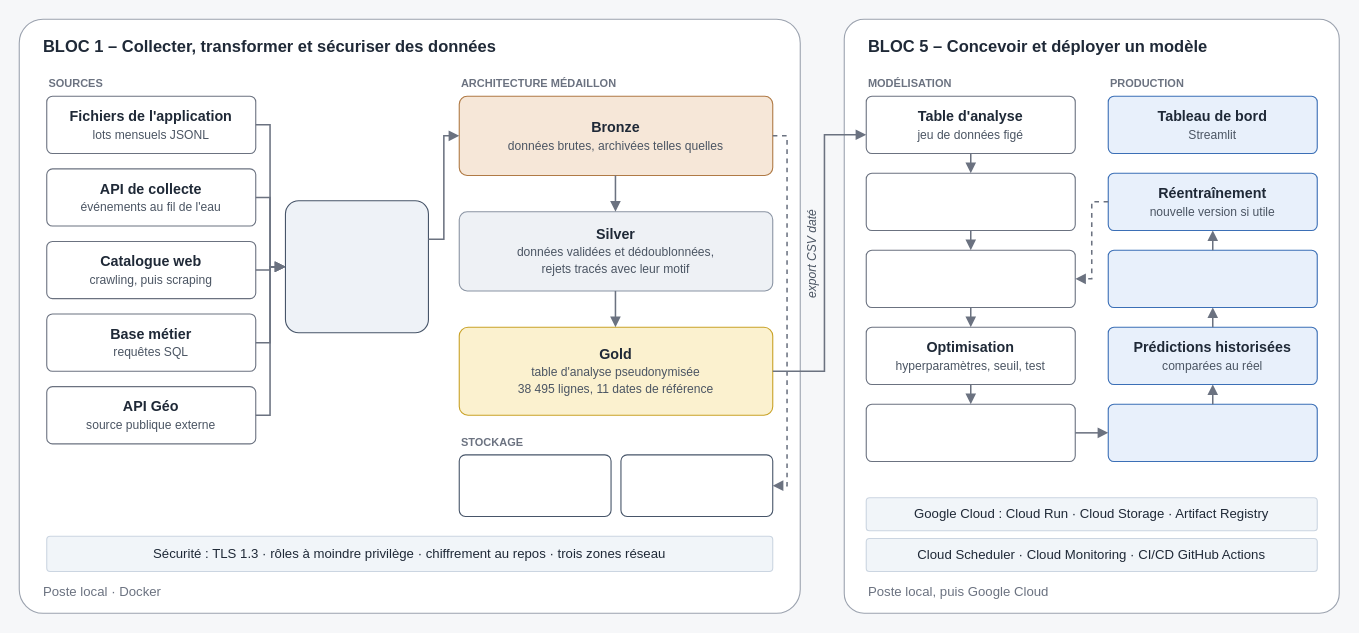
Image size: 1359x633. Some labels were removed from this diagram. The shapes that lost their labels are listed below. From the top down, each one's centre as x and y in pixels, then its label:
pixel 970 201: Sélection des variables 4 méthodes complémentaires
pixel 356 266: Orchestrateur ETL transaction unique contrôles bloquants journal meta.etl_runs
pixel 970 278: Entraînement 5 modèles comparés
pixel 1212 278: Surveillance dérive et performance
pixel 970 432: Registre des modèles mise en production
pixel 1212 432: API de prédiction FastAPI
pixel 534 485: PostgreSQL 16 couches et journal
pixel 696 485: MinIO archivage chiffré
